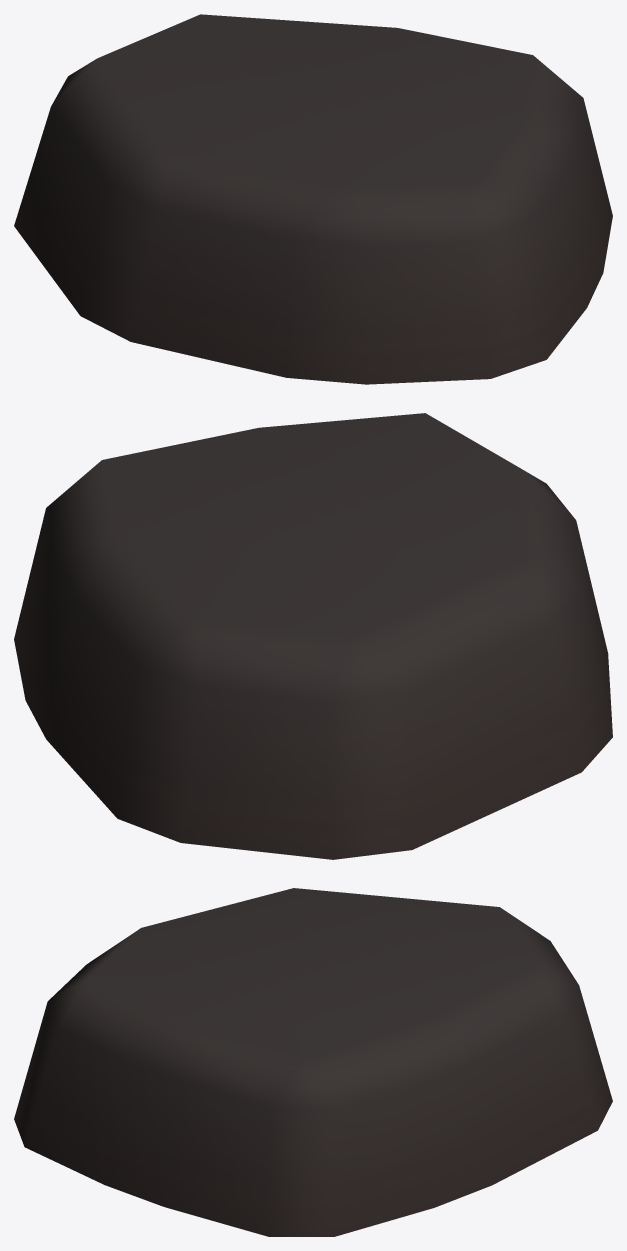
File: Stone_002.glb
The picture shows the model from 3 angles, top to bottom: view 1: azimuth 30°, elevation 25°; view 2: azimuth 150°, elevation 25°; view 3: azimuth 270°, elevation 25°; orthographic projection. The views are drawn at different scales.
Parts seen in each view (by area): view 1: Stone_002; view 2: Stone_002; view 3: Stone_002.
Boxes of the visible parts, x1,y1,x2,y2 form: Stone_002: [14, 14, 612, 384]; Stone_002: [14, 413, 612, 859]; Stone_002: [14, 888, 612, 1236].
Size of the model in its own units: 2.4 by 0.7425 by 2.66.
Materials: 1 (1 with a texture image).
